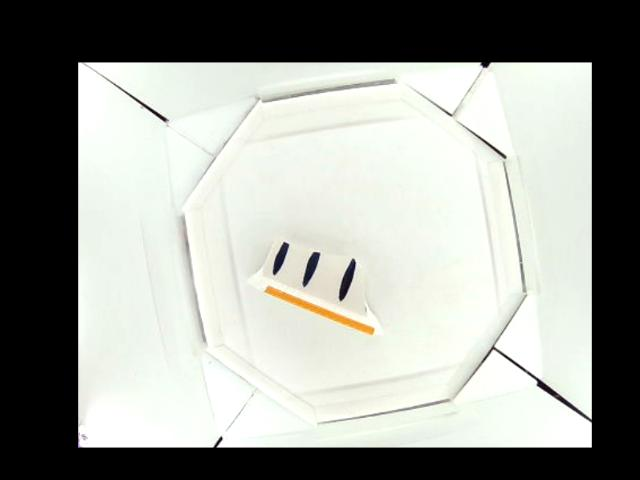China: (249, 238, 383, 337)
